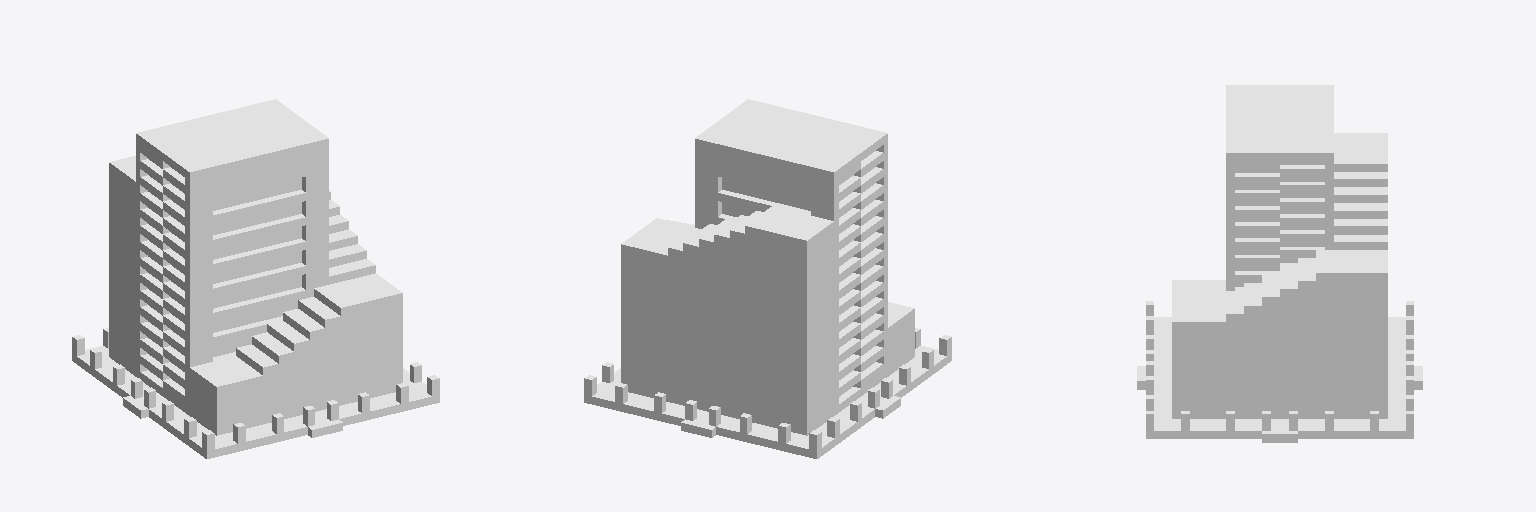
Rendered from office3.obj.
The picture shows the model from 3 angles: view 1: azimuth 30°, elevation 25°; view 2: azimuth 150°, elevation 25°; view 3: azimuth 270°, elevation 25°; orthographic projection.
Parts seen in each view (by area): view 1: object 1; view 2: object 1; view 3: object 1.
Part boxes in pixels (left/top/right/bottom): object 1: left=72, top=99, right=439, bottom=458; object 1: left=584, top=99, right=951, bottom=458; object 1: left=1137, top=85, right=1422, bottom=442.
Bounding box in the file's own units: 3.2 × 3.1 × 3.2.